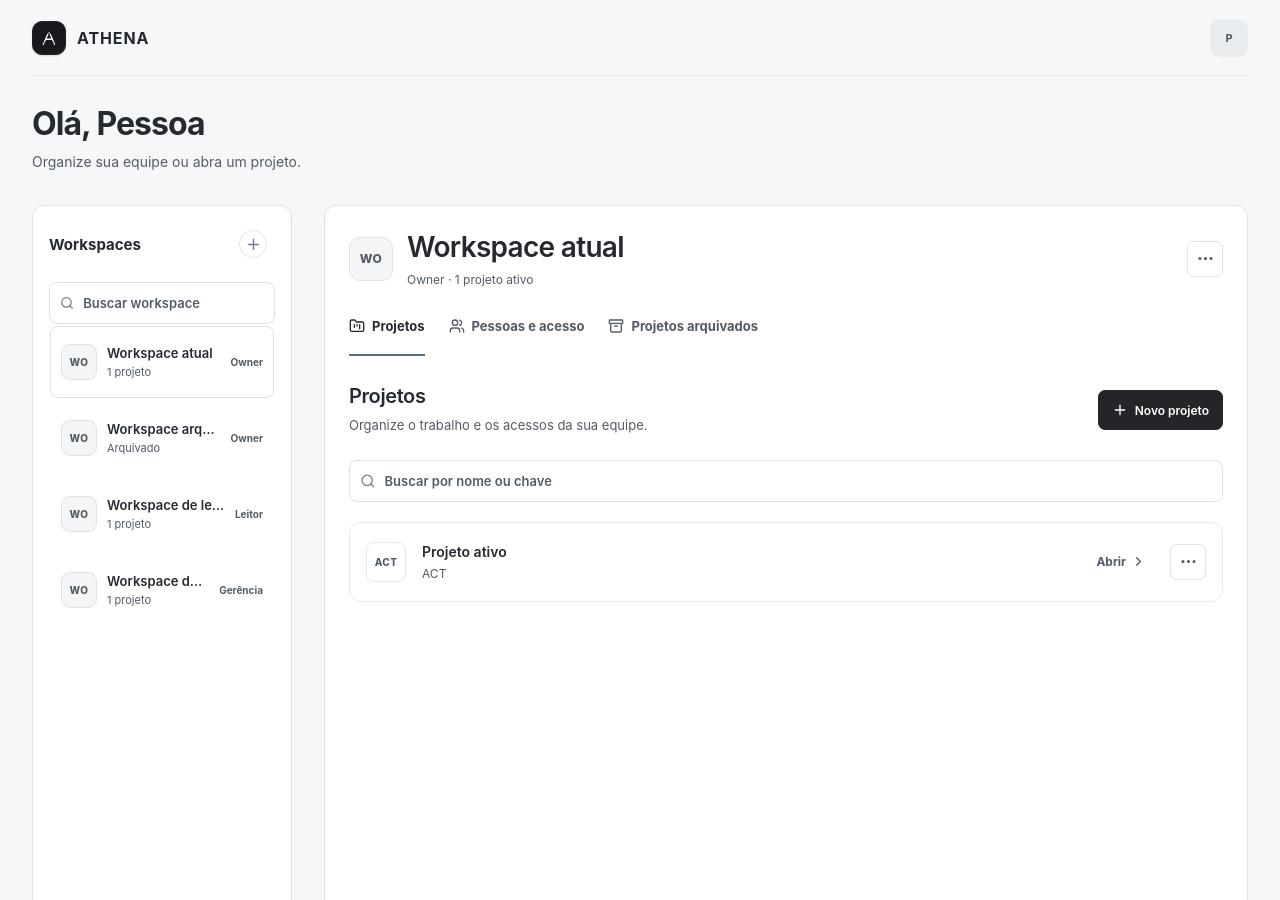
it: workspace management hub › hides Owner controls for a Viewer while keeping the project available to open
Click the button with class "workspace-manager-workspace" that starts with "Workspace de leitura" at (162, 514), box x1=50 y1=478 x2=274 y2=550
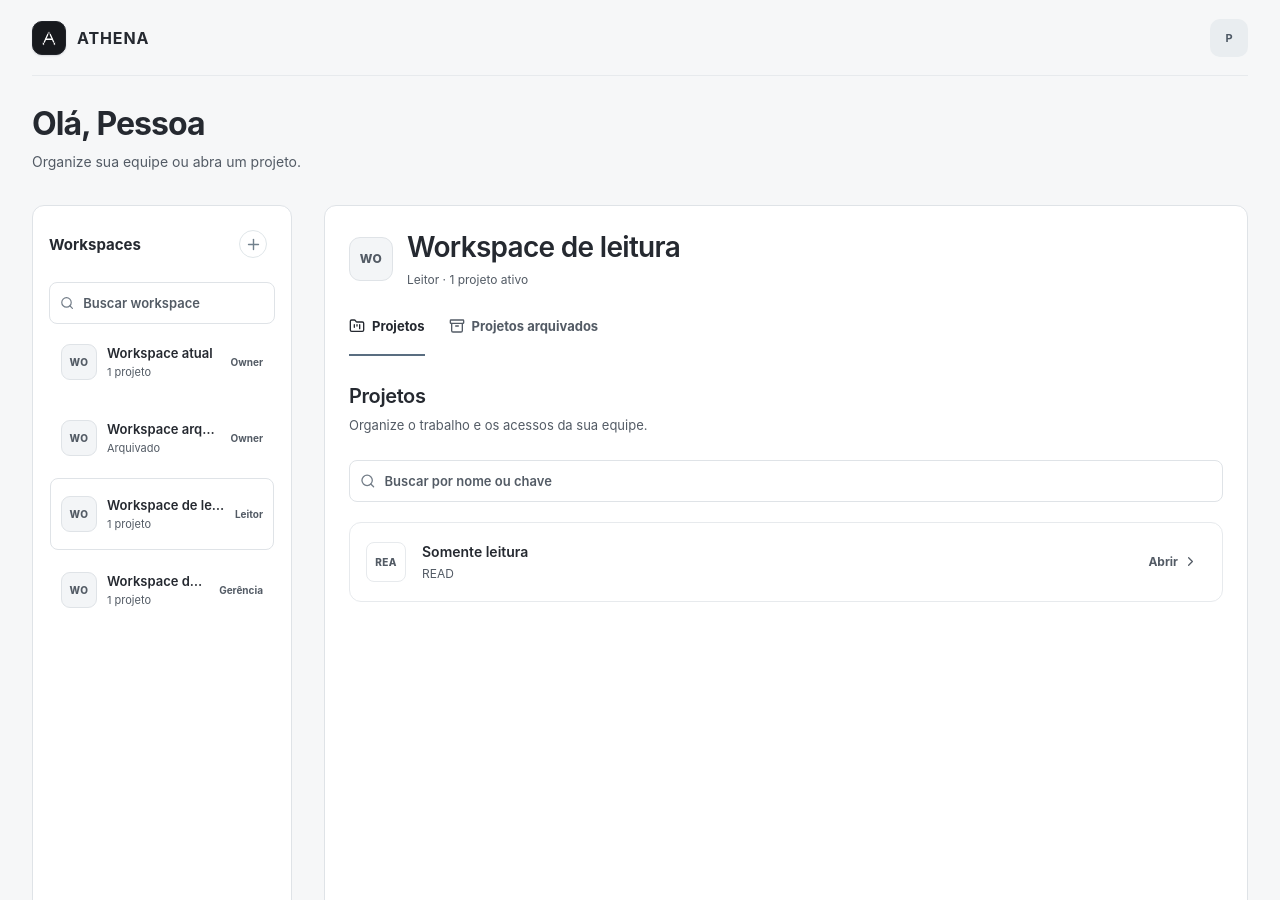
Expected: the button "Abrir" is shown, x1=1140 y1=544 x2=1206 y2=580
Expected: the text "Somente leitura" is shown, x1=422 y1=543 x2=528 y2=560
